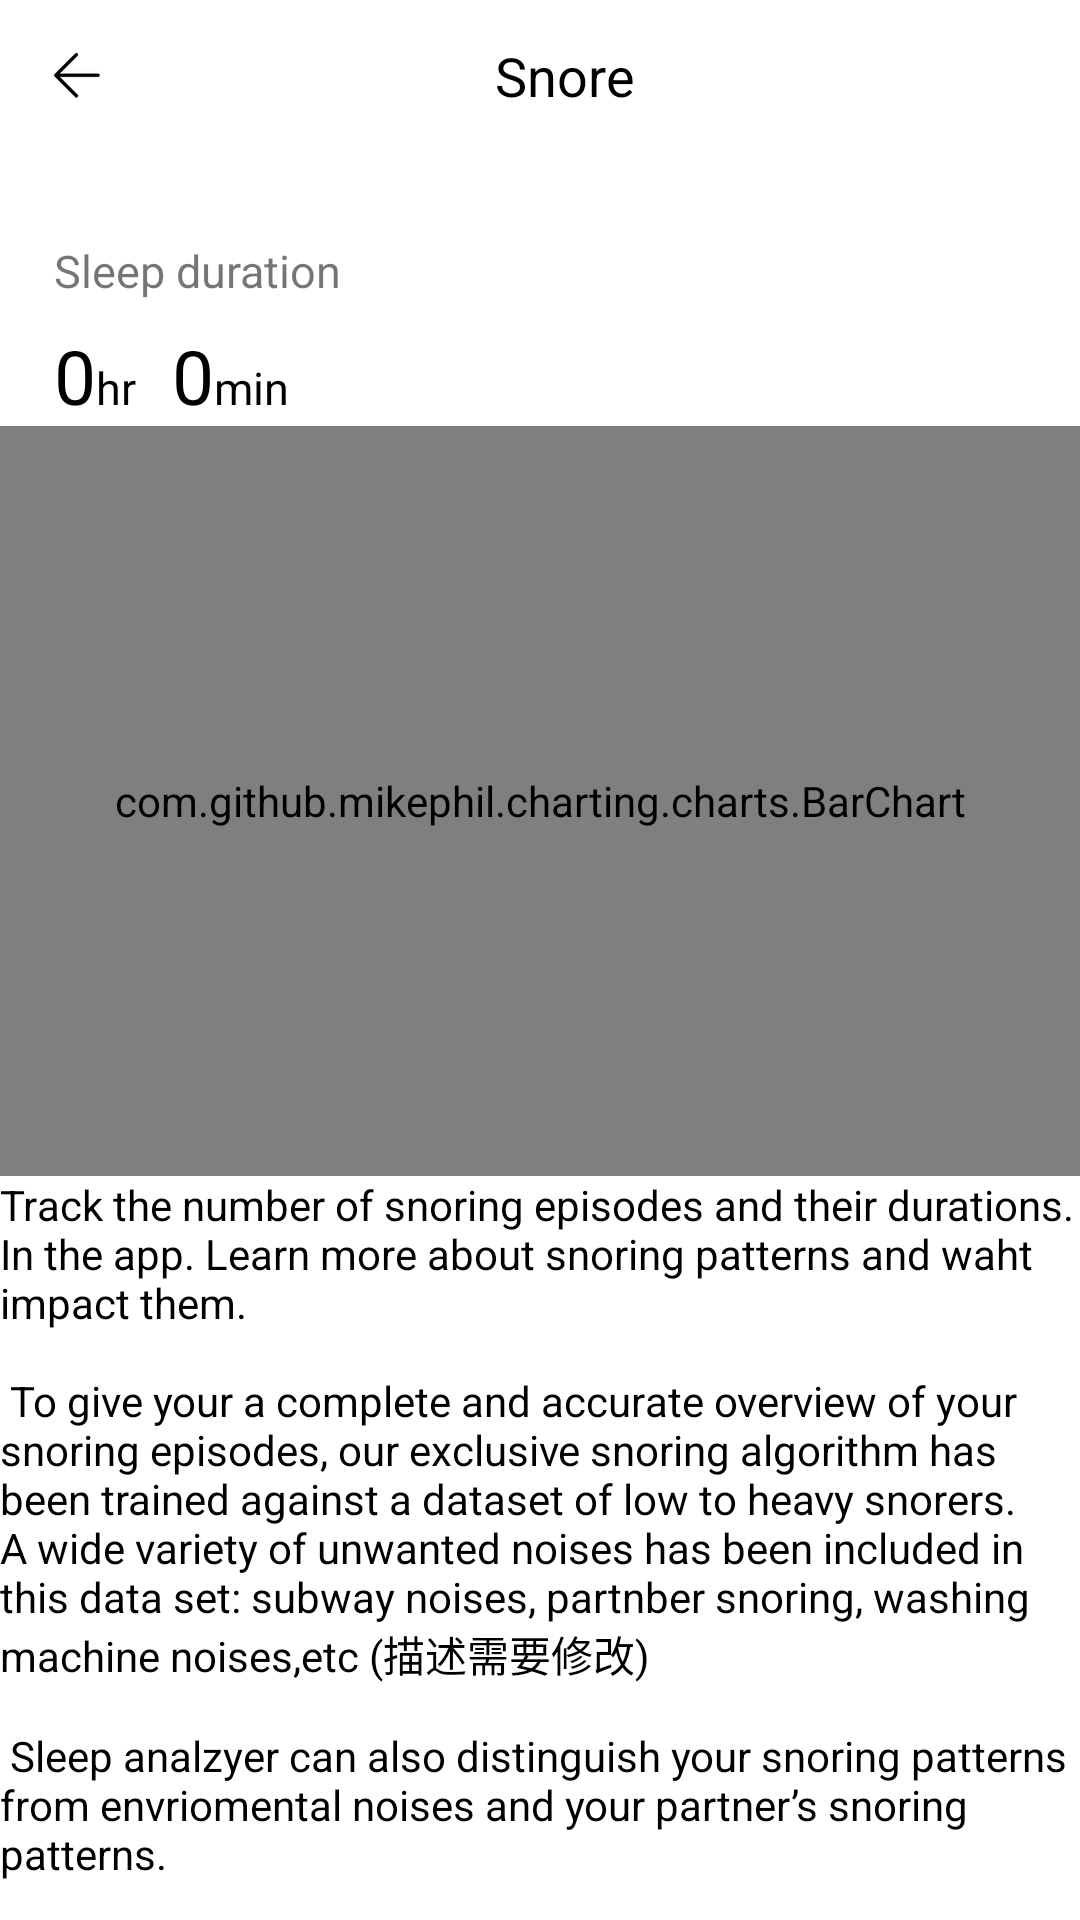

Named icons in this screenshot (1080×1920) and their bounding boxes, bbox(x1, y1, x2, y2):
left arrow: bbox(54, 52, 100, 98)
